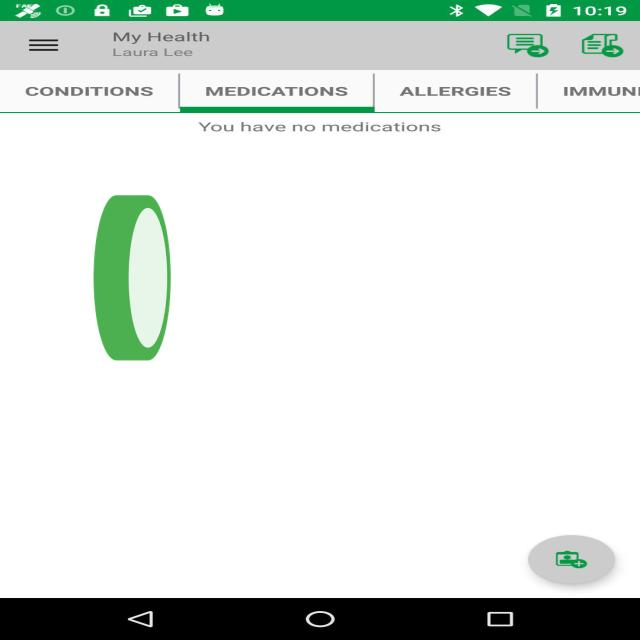social proof: (90, 132, 174, 436)
